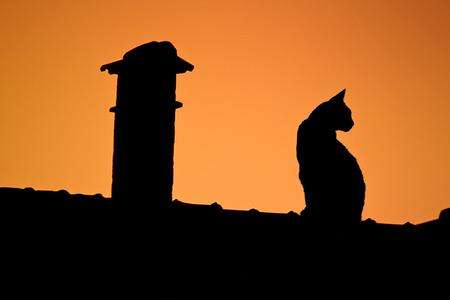cat: (293, 87, 366, 223)
